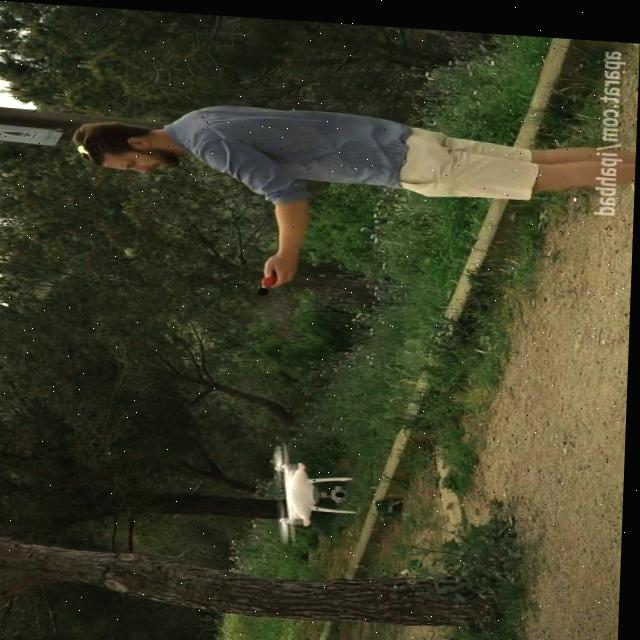drone: (270, 438, 358, 540)
